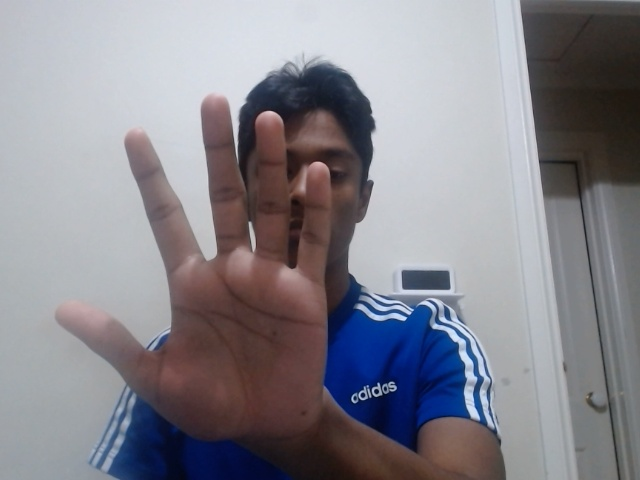palm: (55, 94, 333, 445)
